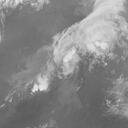cyclone: (47, 29, 100, 79)
